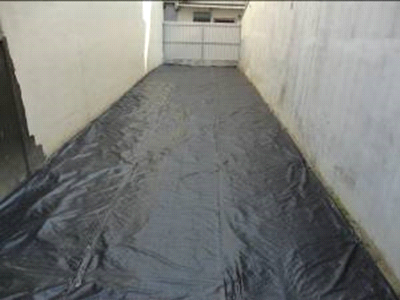plastic_bag: (1, 63, 398, 299)
